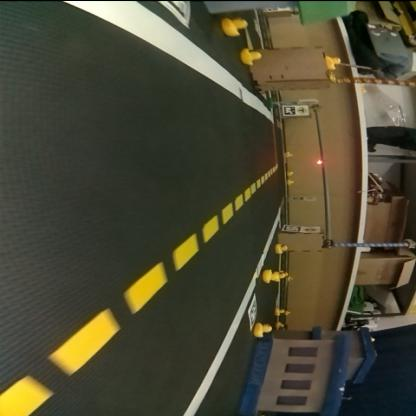Duckie: (224, 17, 248, 35), (242, 49, 262, 65), (255, 323, 273, 337), (263, 269, 280, 282), (326, 56, 340, 68), (276, 243, 288, 254), (286, 152, 294, 158), (276, 308, 284, 314), (288, 170, 294, 176), (288, 180, 296, 184)
Intersection sign: (297, 105, 309, 115)
QR code: (251, 294, 259, 329), (284, 106, 294, 116), (285, 226, 301, 232)
Signal sign: (304, 226, 322, 232)
Traffic light: (316, 158, 324, 164)
